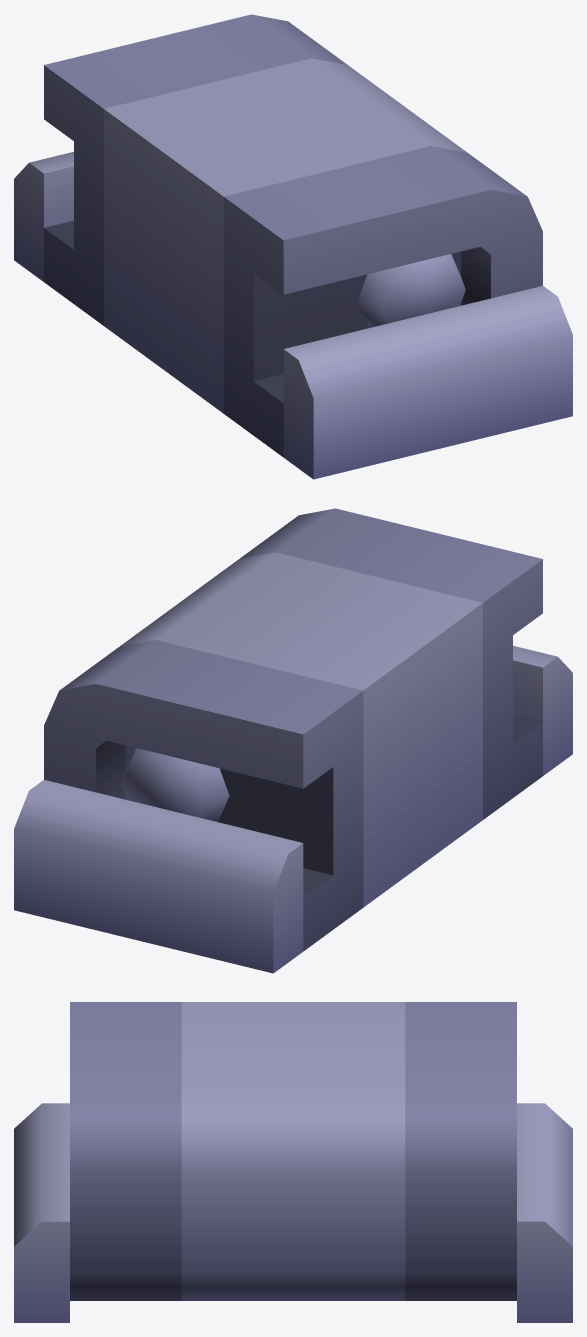
The model's file is kenney-factory-conveyor-long-stripe-sides-part-end.glb.
3 renders of one model, top to bottom at view 1: azimuth 30°, elevation 25°; view 2: azimuth 150°, elevation 25°; view 3: azimuth 270°, elevation 25°, orthographic. The views are drawn at different scales.
Parts seen in each view (by area): view 1: conveyor-long-stripe-sides-part-end; view 2: conveyor-long-stripe-sides-part-end; view 3: conveyor-long-stripe-sides-part-end.
Part boxes in pixels (bbox=[...]): conveyor-long-stripe-sides-part-end: bbox=[14, 14, 572, 479]; conveyor-long-stripe-sides-part-end: bbox=[14, 508, 572, 973]; conveyor-long-stripe-sides-part-end: bbox=[14, 1002, 572, 1322].
Bounding box in the file's own units: 0.5001 × 0.3999 × 1.
Materials: 1 (1 with a texture image).
